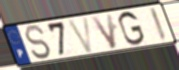7: (46, 20, 67, 58)
G: (117, 10, 147, 47)
I: (148, 6, 169, 43)
S: (23, 24, 53, 61)
V: (66, 15, 95, 55), (90, 12, 118, 50)
